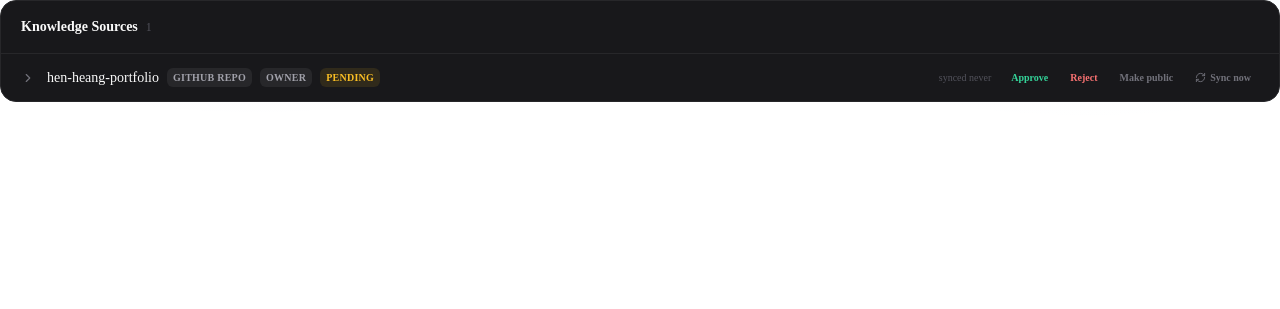
KnowledgeSourcesPanel › expanding a source shows a safe plain-text preview of its synced chunks
The width and height of the screenshot is (1280, 309).
Click the button named "Expand" at coordinates (28, 78), box left=21, top=70, right=35, bottom=84
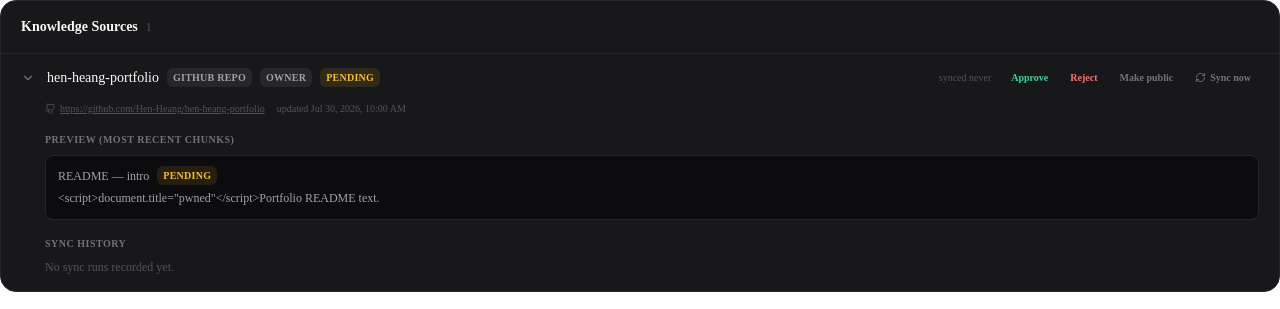
Check: the text "Portfolio README text." is shown, box left=58, top=191, right=380, bottom=205
